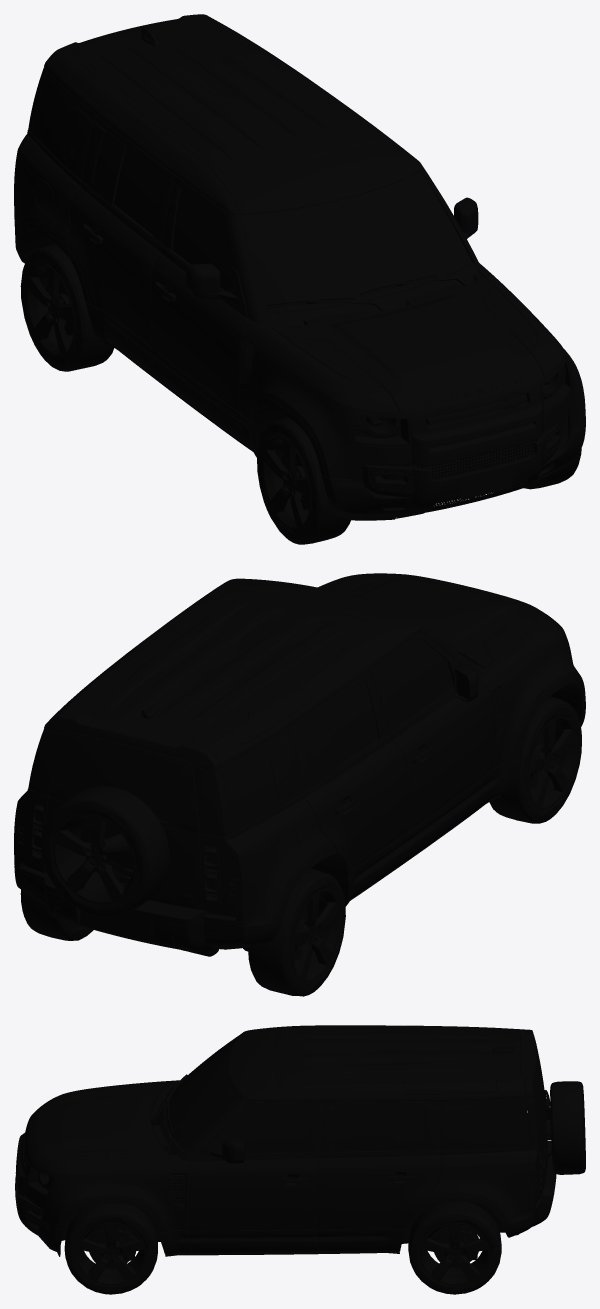
Rendered from land_rover__defender_110.glb.
3 views of the same model, one above another, from view 1: azimuth 30°, elevation 25°; view 2: azimuth 150°, elevation 25°; view 3: azimuth 270°, elevation 25° (orthographic). The views are drawn at different scales.
Parts seen in each view (by area): view 1: node_id52_45, node_id30_24, node_id1513_1458, node_id1862_1761, node_id172_160, node_id680_645, node_id889_843, node_id722_685, node_id689_653, node_id1493_1442, node_id1684_1611, node_id356_337 (+25 smaller); view 2: node_id52_45, node_id1862_1761, node_id680_645, node_id1906_1798, node_id1513_1458, node_id1802_1716, node_id172_160, node_id889_843, node_id1493_1442, node_id689_653, node_id1684_1611, node_id747_707 (+26 smaller); view 3: node_id1862_1761, node_id52_45, node_id172_160, node_id1513_1458, node_id680_645, node_id889_843, node_id689_653, node_id669_635, node_id30_24, node_id1896_1790, node_id1500_1448, node_id656_623 (+32 smaller).
Part boxes in pixels (bbox=[...]): node_id52_45: bbox=[72, 18, 381, 179]; node_id30_24: bbox=[240, 171, 471, 313]; node_id1513_1458: bbox=[272, 276, 544, 419]; node_id1862_1761: bbox=[68, 181, 479, 413]; node_id172_160: bbox=[239, 264, 585, 479]; node_id680_645: bbox=[48, 17, 422, 215]; node_id889_843: bbox=[114, 147, 232, 291]; node_id722_685: bbox=[409, 388, 543, 465]; node_id689_653: bbox=[86, 303, 258, 457]; node_id1493_1442: bbox=[17, 138, 80, 249]; node_id1684_1611: bbox=[20, 244, 113, 371]; node_id356_337: bbox=[257, 417, 350, 544]; node_id52_45: bbox=[72, 589, 381, 744]; node_id1862_1761: bbox=[89, 681, 495, 874]; node_id680_645: bbox=[50, 578, 422, 767]; node_id1906_1798: bbox=[48, 732, 199, 833]; node_id1513_1458: bbox=[346, 573, 538, 667]; node_id1802_1716: bbox=[41, 786, 169, 917]; node_id172_160: bbox=[318, 573, 585, 770]; node_id889_843: bbox=[324, 639, 453, 766]; node_id1493_1442: bbox=[233, 798, 334, 918]; node_id689_653: bbox=[174, 715, 519, 906]; node_id1684_1611: bbox=[248, 868, 345, 996]; node_id747_707: bbox=[44, 871, 213, 951]; node_id1862_1761: bbox=[188, 1075, 441, 1230]; node_id52_45: bbox=[274, 1027, 525, 1083]; node_id172_160: bbox=[26, 1080, 192, 1232]; node_id1513_1458: bbox=[25, 1082, 171, 1165]; node_id680_645: bbox=[226, 1025, 525, 1101]; node_id889_843: bbox=[225, 1063, 394, 1153]; node_id689_653: bbox=[158, 1140, 405, 1254]; node_id669_635: bbox=[428, 1146, 529, 1219]; node_id30_24: bbox=[165, 1036, 240, 1151]; node_id1896_1790: bbox=[408, 1201, 501, 1294]; node_id1500_1448: bbox=[64, 1203, 157, 1294]; node_id656_623: bbox=[441, 1097, 529, 1150].
Bounding box in the file's own units: 0.2154 × 0.2019 × 0.5123.
24 materials, 24 textured.
